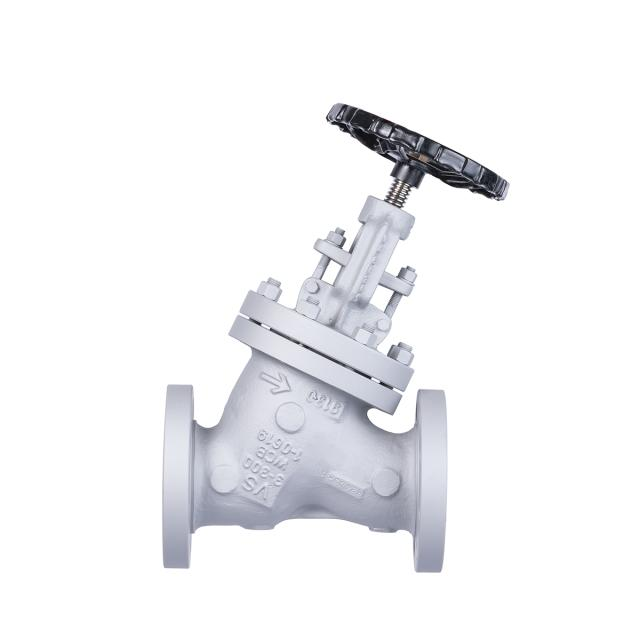Wheel Handle Valve Threaded: (323, 92, 537, 204)
